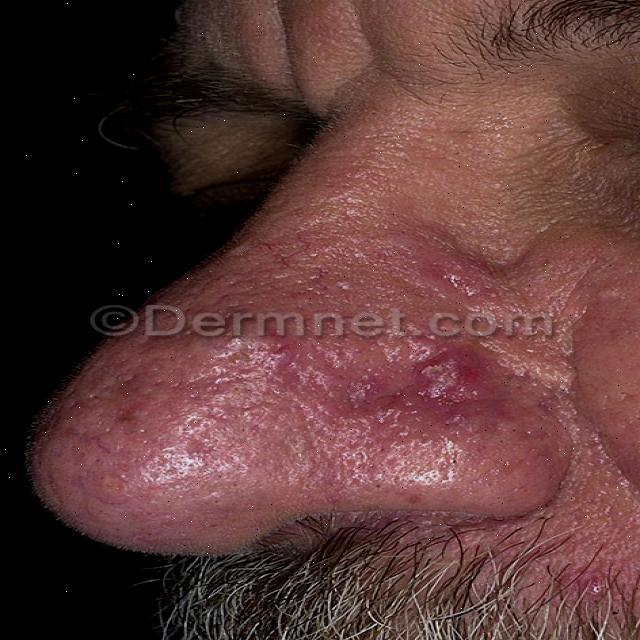images: (17, 0, 639, 639)
